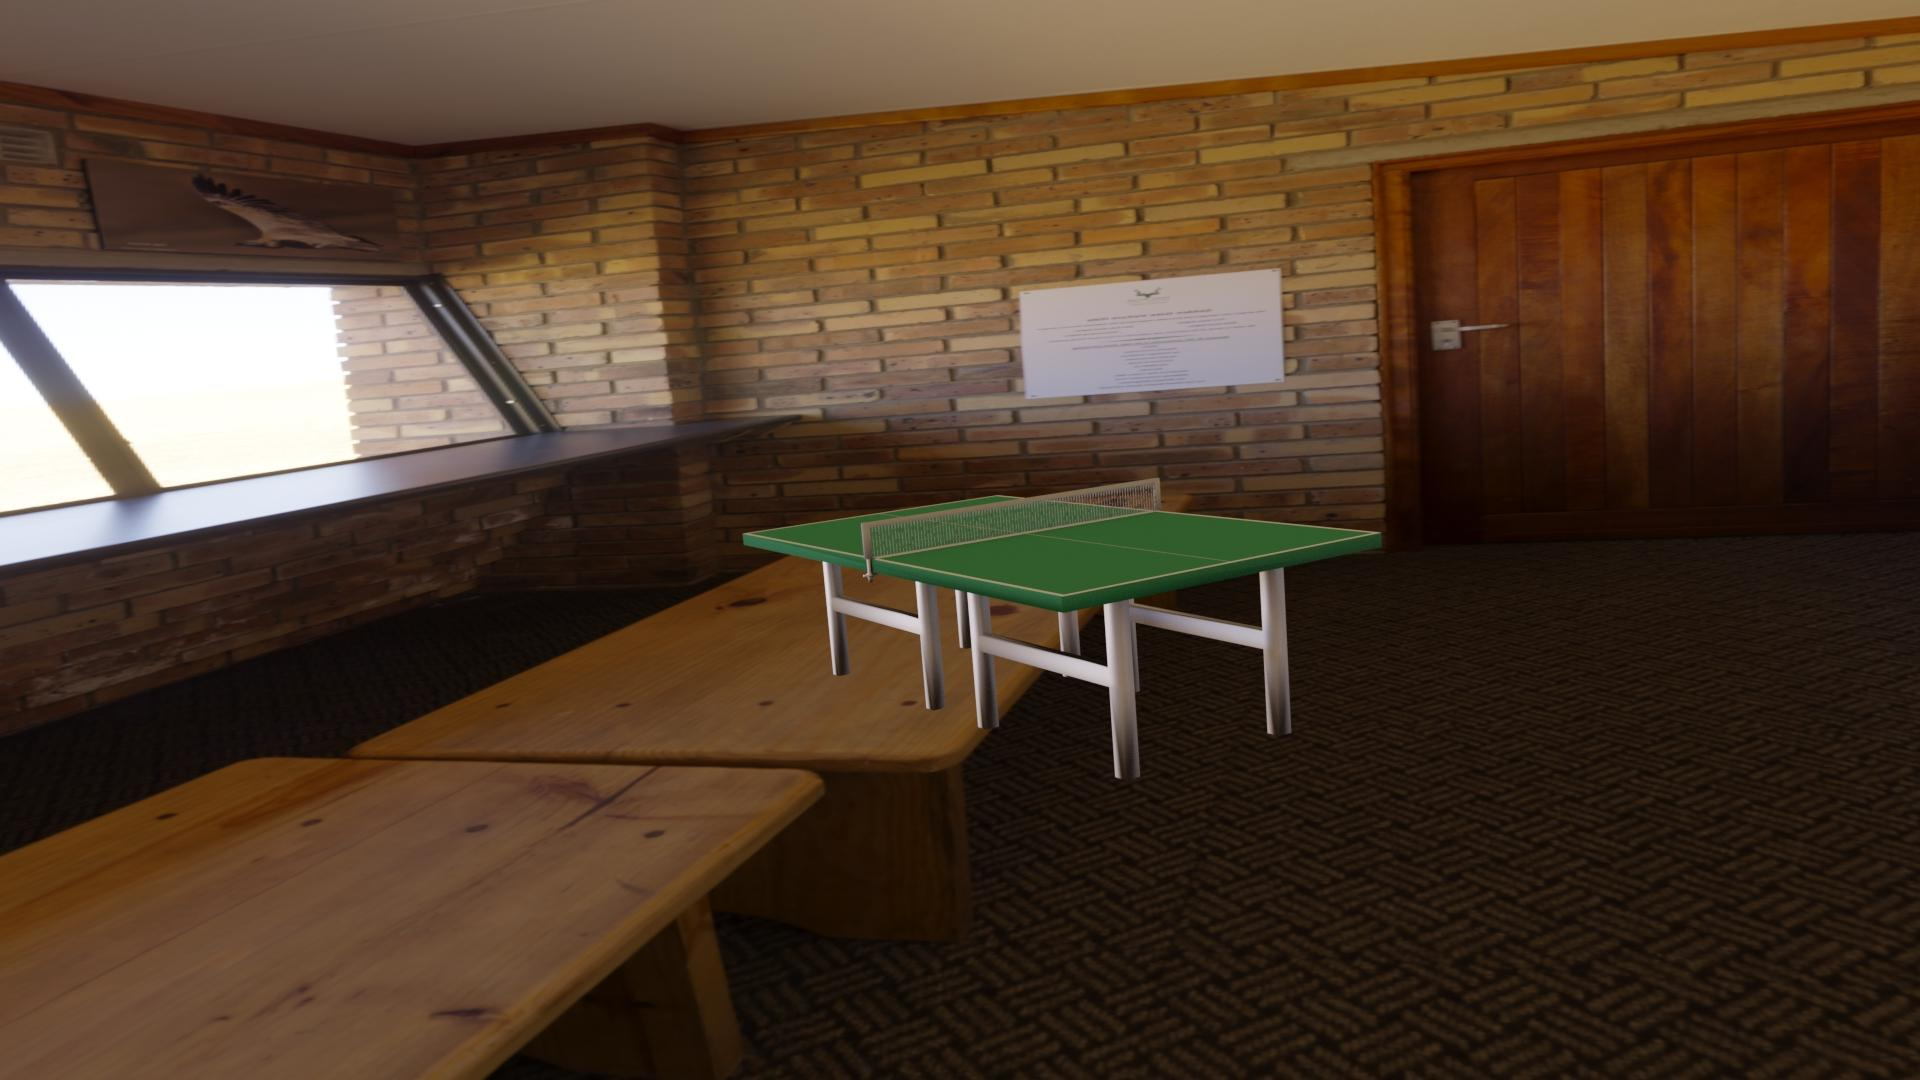table: (748, 496, 1374, 595)
